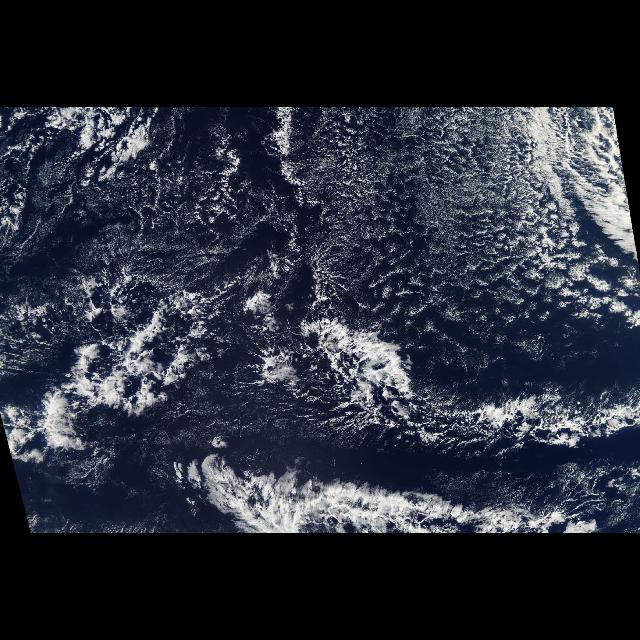Fish: (65, 257, 640, 533)
Gravel: (294, 112, 640, 344)
Sugar: (304, 109, 528, 311), (85, 216, 231, 278)
